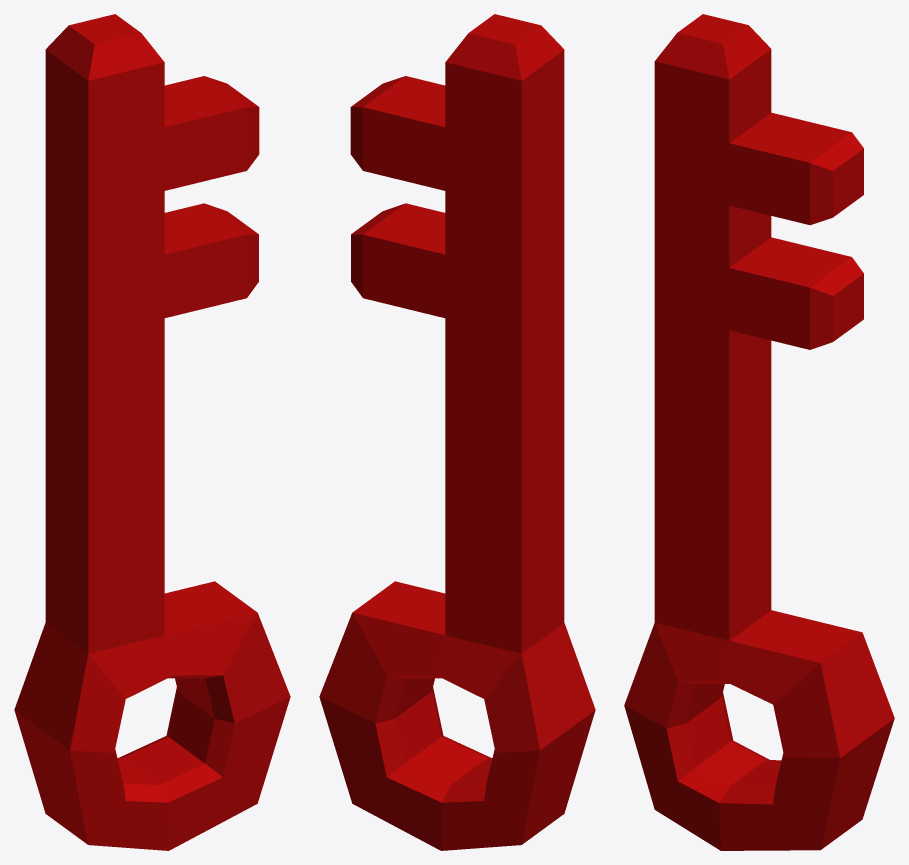
File: key_red.glb
3 views of the same model, side by side, from view 1: azimuth 30°, elevation 25°; view 2: azimuth 150°, elevation 25°; view 3: azimuth 330°, elevation 25° (orthographic). The views are drawn at different scales.
Visible parts, largest first — view 1: key_red; view 2: key_red; view 3: key_red.
Part boxes in pixels (x1=…): key_red: x1=14, y1=14, x2=290, y2=850; key_red: x1=319, y1=14, x2=595, y2=850; key_red: x1=624, y1=14, x2=894, y2=850.
Bounding box in the file's own units: 0.604 × 2.12 × 0.2691.
Materials: 1 (1 with a texture image).
